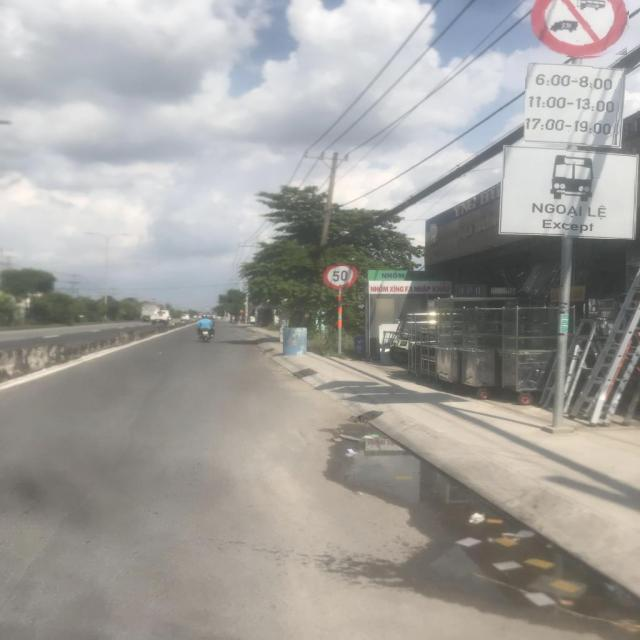107-cam-oto-khach-va-oto-tai: (530, 0, 630, 60)
127-toc-do-toi-da-50: (322, 263, 358, 289)
